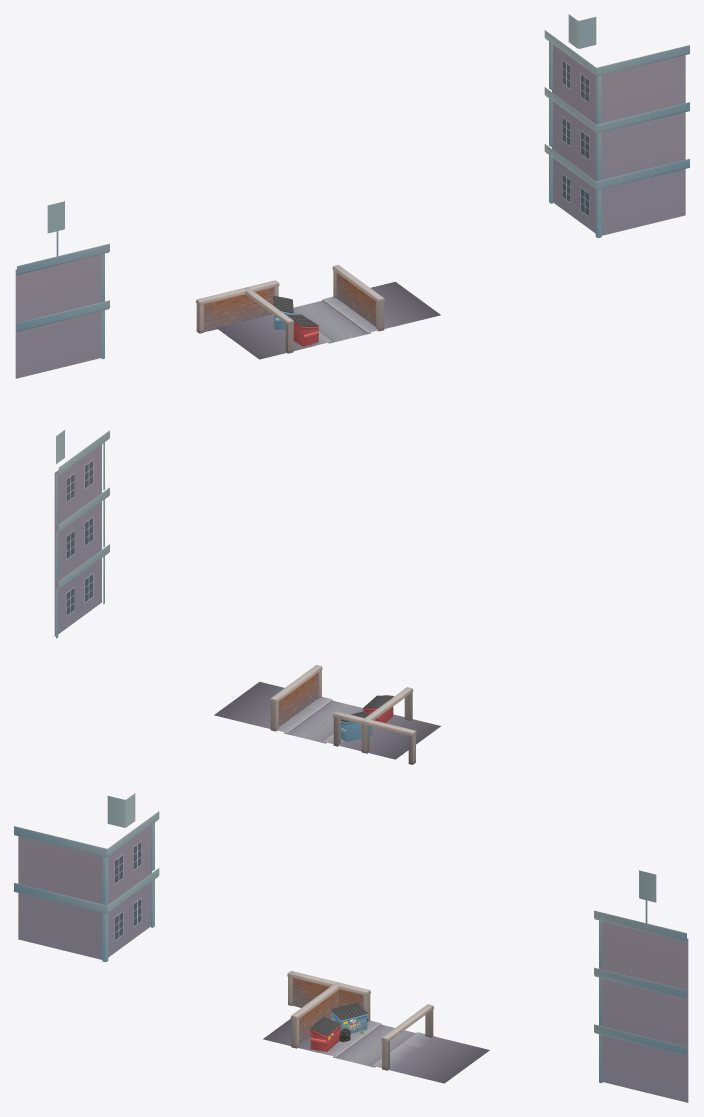
Rendered from UrbanDumpsters01.prefab.glb.
3 renders of one model, top to bottom at view 1: azimuth 30°, elevation 25°; view 2: azimuth 150°, elevation 25°; view 3: azimuth 330°, elevation 25°, orthographic.
Parts seen in each view (by area): view 1: FarBackBuilding01, UrbanDumpsters01, BrickWall (4), BrickWall (3), BrickWall (2), DumpsterRed; view 2: FarBackBuilding01, UrbanDumpsters01, BrickWall (3), BrickWall (4), BrickWall (2); view 3: FarBackBuilding01, UrbanDumpsters01, BrickWall (4), BrickWall (2), BrickWall (3), DumpsterRed, DumpsterBlue.
Boxes of the visible parts, x1,y1,x2,y2 form: FarBackBuilding01: (15,14,689,378); UrbanDumpsters01: (217,281,440,359); BrickWall (4): (195,280,279,333); BrickWall (3): (332,265,384,331); BrickWall (2): (243,287,294,353); DumpsterRed: (287,314,318,346); FarBackBuilding01: (54,430,109,638); UrbanDumpsters01: (214,681,440,759); BrickWall (3): (270,665,322,731); BrickWall (4): (333,711,416,764); BrickWall (2): (361,687,413,753); FarBackBuilding01: (14,793,688,1102); UrbanDumpsters01: (263,1019,489,1083); BrickWall (4): (287,971,370,1022); BrickWall (2): (290,982,341,1048); BrickWall (3): (381,1004,433,1070); DumpsterRed: (310,1017,340,1051); DumpsterBlue: (331,1002,368,1033).
Size of the model in its own units: 76.34 by 26.74 by 10.17.
5 materials, 4 textured.
